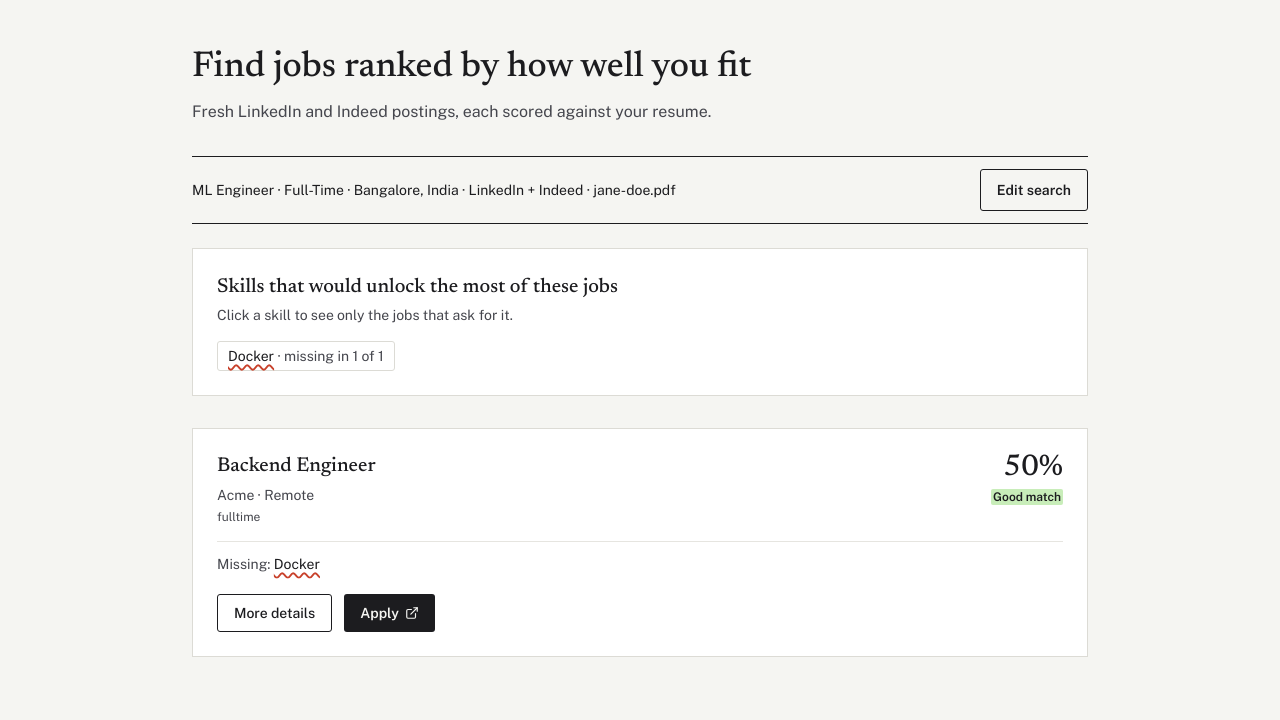
Test: after results, the form collapses into a summary bar that can reopen it
Expected: the text "ML Engineer · Full-Time · Bangalore, India · LinkedIn + Indeed · jane-doe.pdf" is shown, [192,182,676,198]
Expected: the text "SEARCH FORM" is not shown
Click the button "Edit search". click: (1034, 190)
box: [980,169,1088,211]
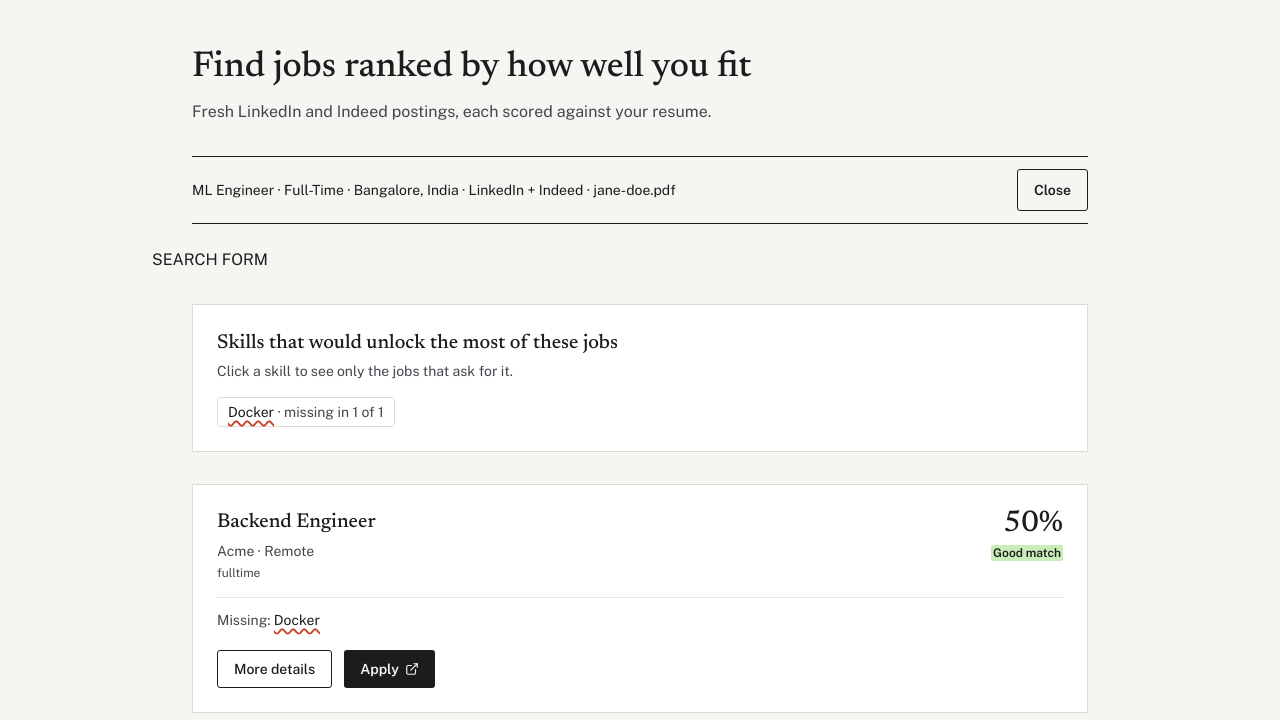
Result: the text "SEARCH FORM" is shown at [152,250,268,269]
